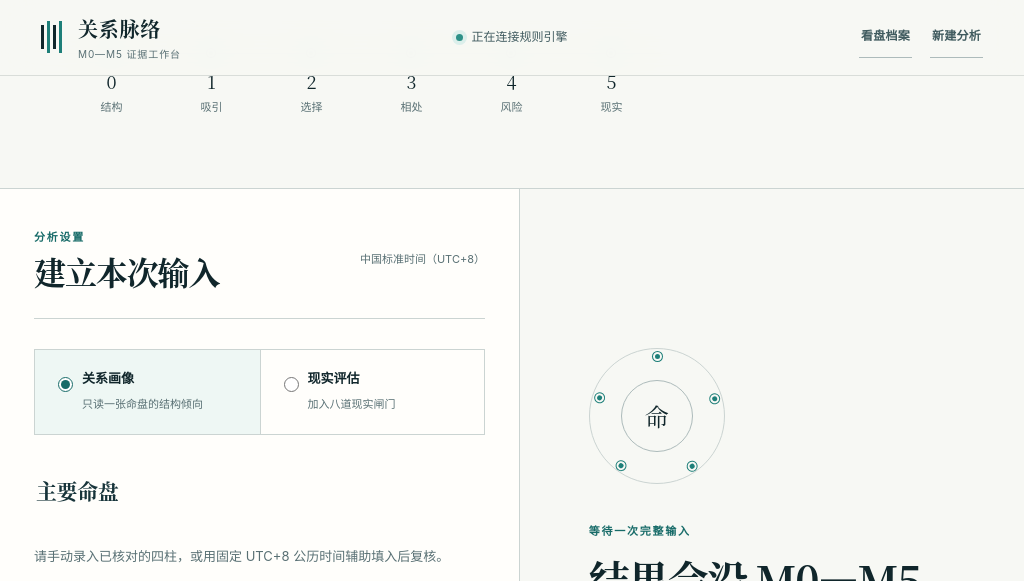
Test: App analysis provenance › protects reality observations edited after the reading was saved
(page scrolled)
Click the radio button labelled "现实评估 加入八道现实闸门". click: (291, 385)
box: [284,377,298,392]
(page scrolled)
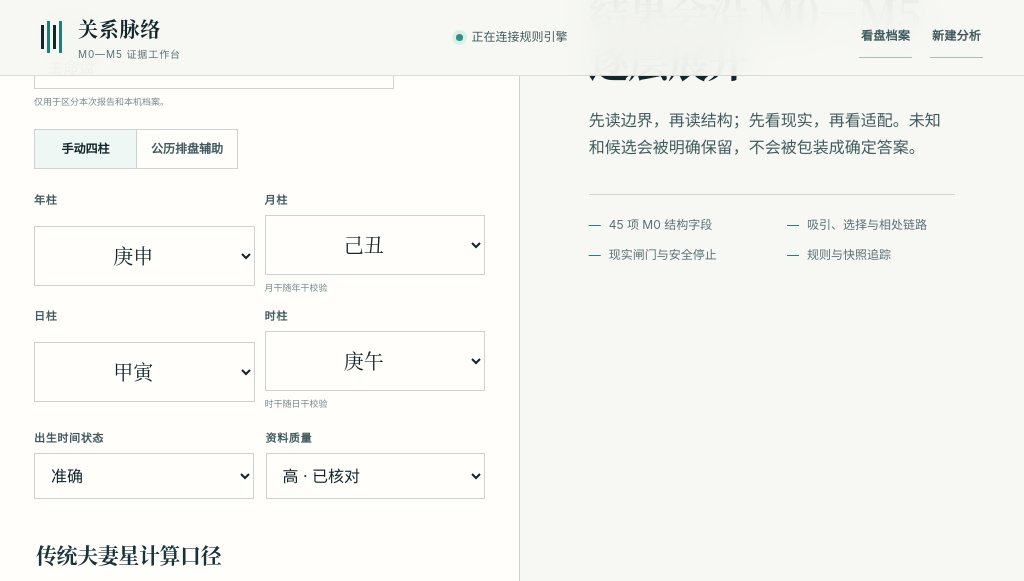
Submit the form
(page scrolled)
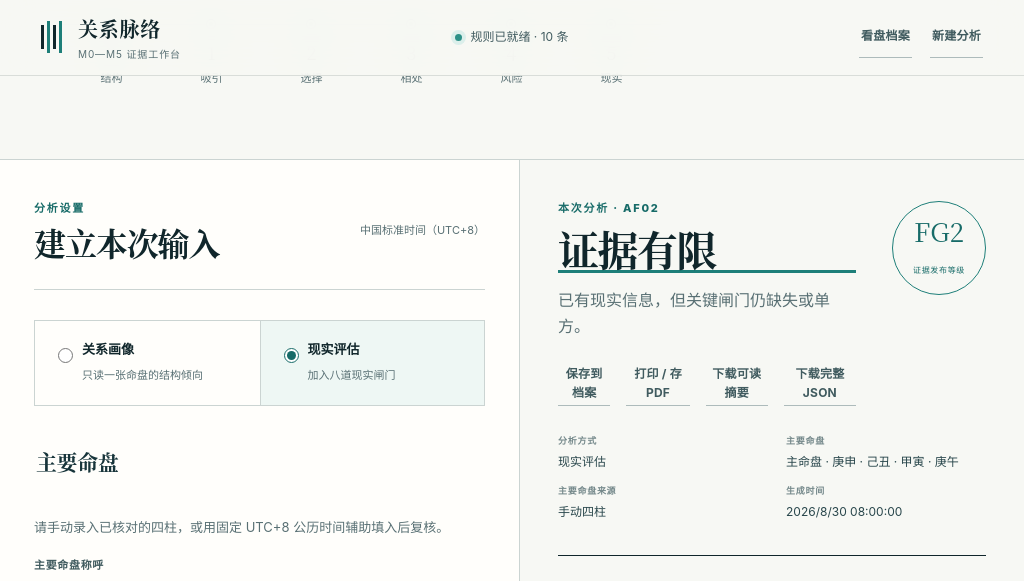
Click the button "保存到档案". click: (584, 385)
box: [558,364,610,406]
(page scrolled)
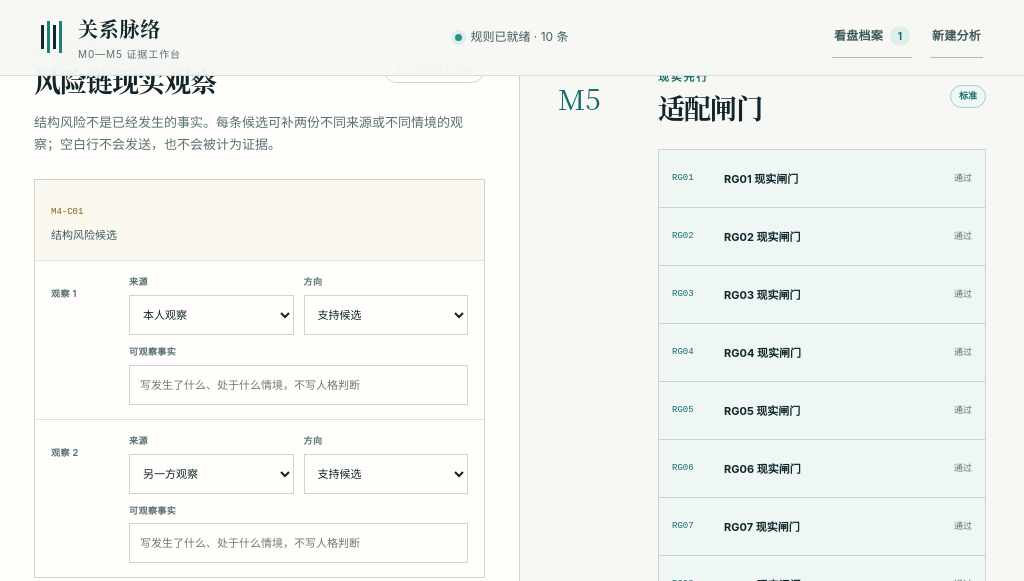
Type "保存后补充的压力情境" into the field labelled "可观察事实" below "观察 1". click: (298, 385)
box: [129,365,468,405]
(page scrolled)
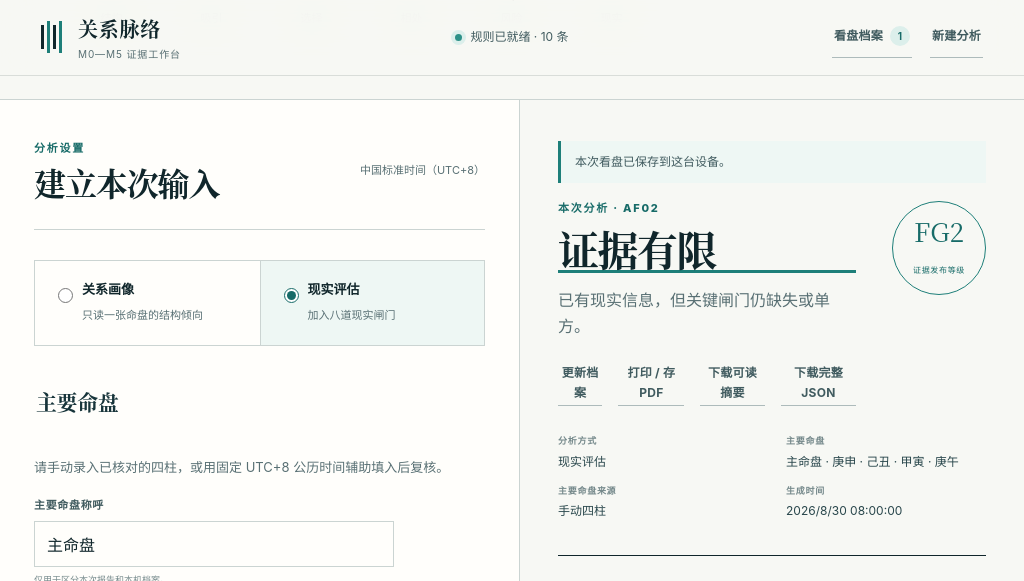
Expected: the button "更新档案" is enabled, [558,363,602,406]
